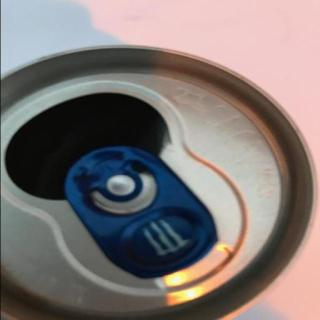Anorganik: (0, 43, 320, 320)
